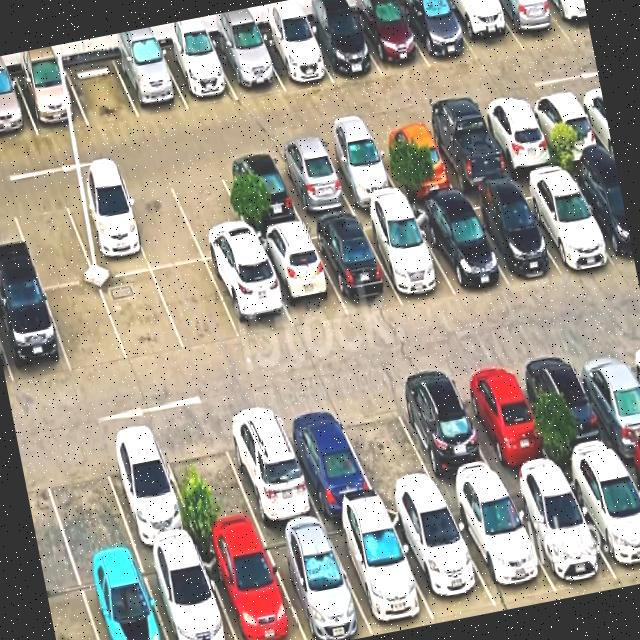empty: (157, 421, 261, 543), (333, 387, 441, 504), (37, 440, 136, 567), (167, 163, 256, 260), (118, 175, 204, 270), (10, 193, 95, 289), (99, 271, 185, 363), (153, 262, 240, 351), (44, 282, 128, 374), (64, 57, 139, 126)
occupied: (389, 372, 502, 497), (324, 509, 435, 636), (445, 485, 557, 606), (504, 474, 617, 593), (386, 499, 497, 619), (260, 523, 373, 640), (450, 361, 558, 483), (217, 404, 321, 530), (97, 429, 198, 553), (275, 398, 379, 518), (519, 348, 620, 470), (199, 534, 305, 640), (514, 172, 616, 272), (563, 459, 640, 586), (460, 188, 559, 285), (410, 199, 509, 296), (255, 227, 348, 330), (307, 217, 402, 316), (358, 209, 456, 303), (139, 545, 235, 640), (62, 184, 151, 280), (569, 340, 640, 458), (76, 556, 167, 640), (207, 252, 294, 339), (422, 112, 511, 192), (566, 163, 635, 266), (0, 286, 71, 386), (218, 153, 303, 234), (271, 143, 355, 222), (319, 134, 403, 210), (371, 123, 457, 197), (477, 100, 559, 176), (525, 91, 606, 164), (352, 1, 430, 76), (304, 14, 382, 83), (397, 0, 477, 67), (160, 42, 238, 110), (113, 49, 188, 118), (442, 0, 525, 62), (15, 66, 88, 136), (256, 26, 333, 91), (212, 35, 284, 100), (492, 0, 571, 50), (0, 75, 38, 143), (544, 0, 591, 41)
